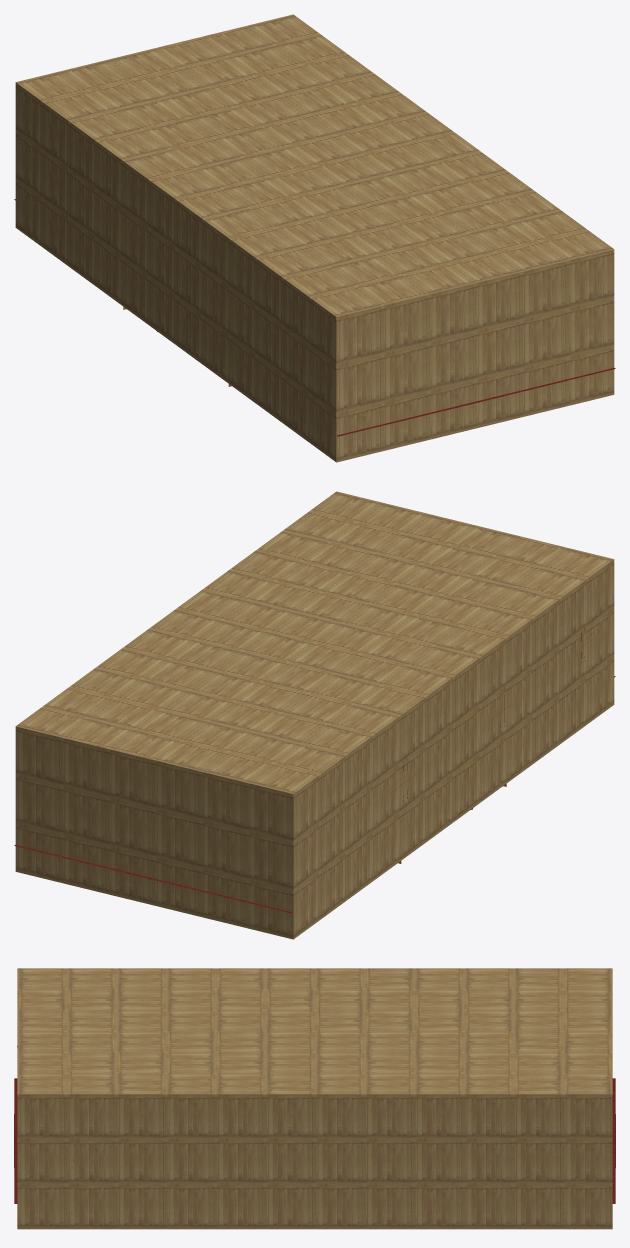
File: infrastructure.obj
3 renders of one model, top to bottom at view 1: azimuth 30°, elevation 25°; view 2: azimuth 150°, elevation 25°; view 3: azimuth 270°, elevation 25°, orthographic. The views are drawn at different scales.
Visible parts, largest first — view 1: Structure_Mstructure_0; view 2: Structure_Mstructure_0; view 3: Structure_Mstructure_0.
Boxes of the visible parts, left/top/right/bottom form: Structure_Mstructure_0: left=14, top=14, right=615, bottom=462; Structure_Mstructure_0: left=14, top=491, right=615, bottom=939; Structure_Mstructure_0: left=14, top=968, right=615, bottom=1229.
Bounding box in the file's own units: 601 × 310 × 1213.
Materials: 1 (1 with a texture image).
